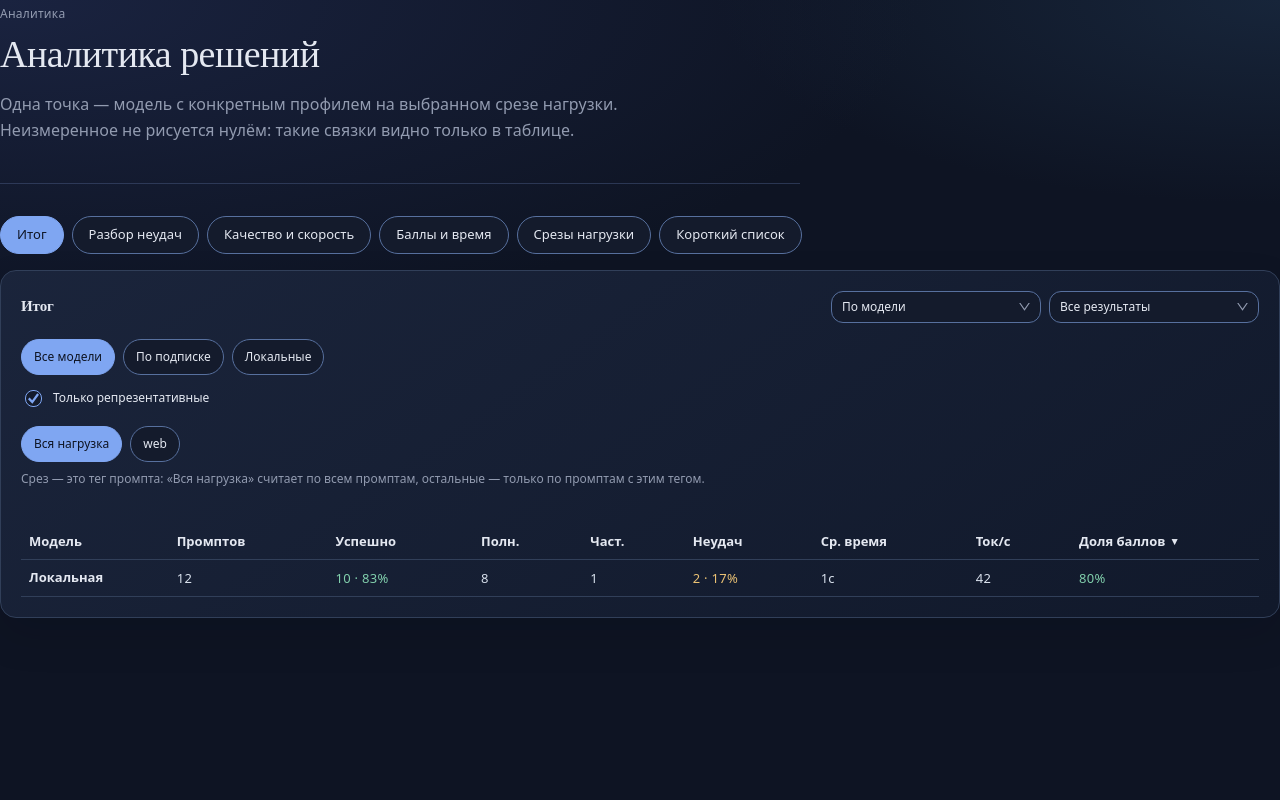
it: аналитика решений › раскладывает виды по вкладкам
Click the tab "Качество и скорость" at (289, 235), box 207,216 -> 371,254
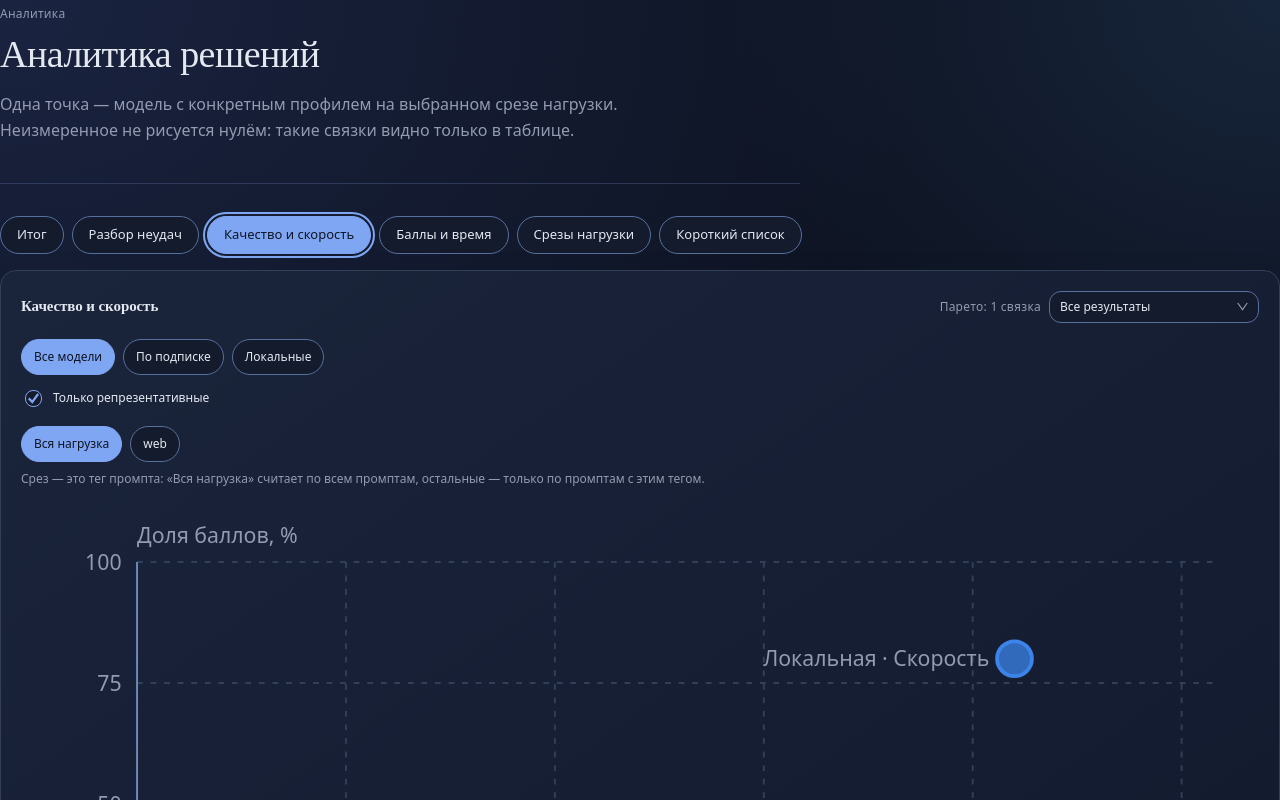
Check: the table "Доля баллов по срезам нагрузки" is not shown
Click the tab "Срезы нагрузки" at (584, 235), box 516,216 -> 651,254
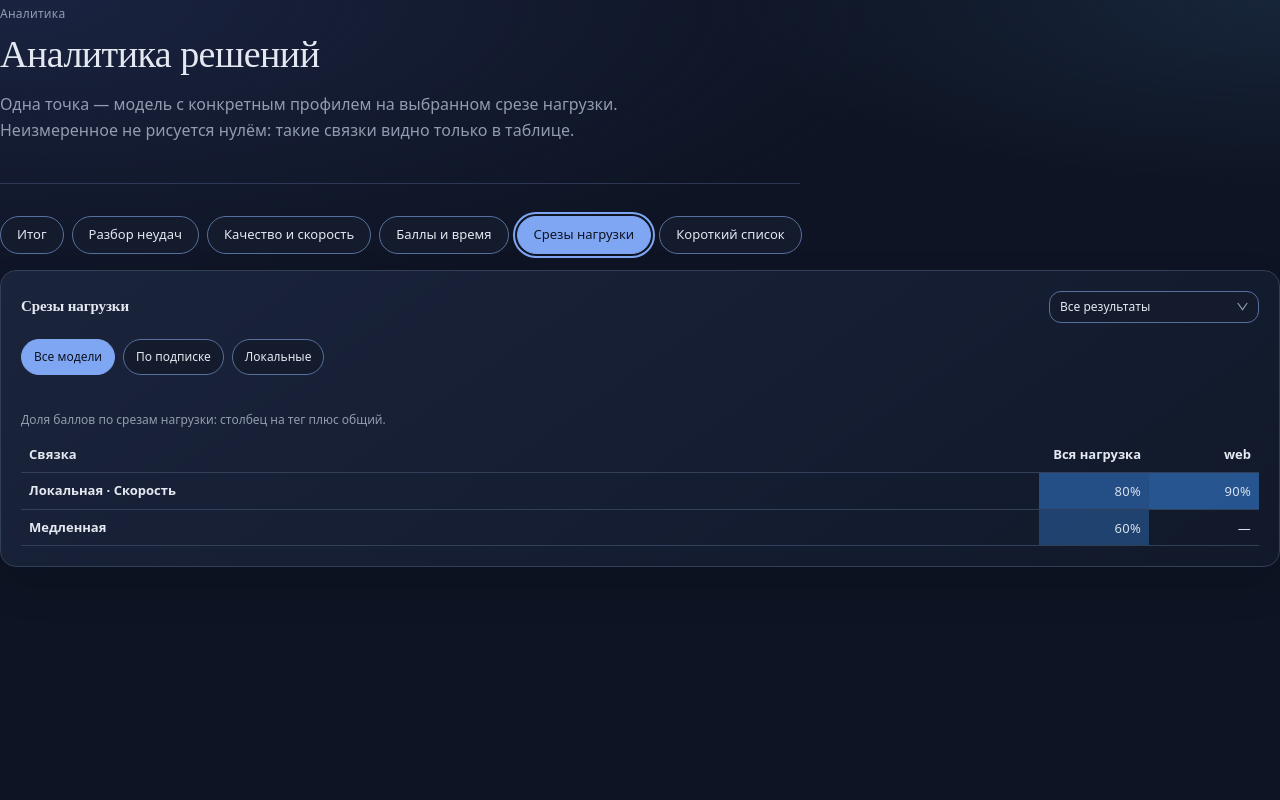
Check: the table "Доля баллов по срезам нагрузки" is shown, box 21,411 -> 1259,546
